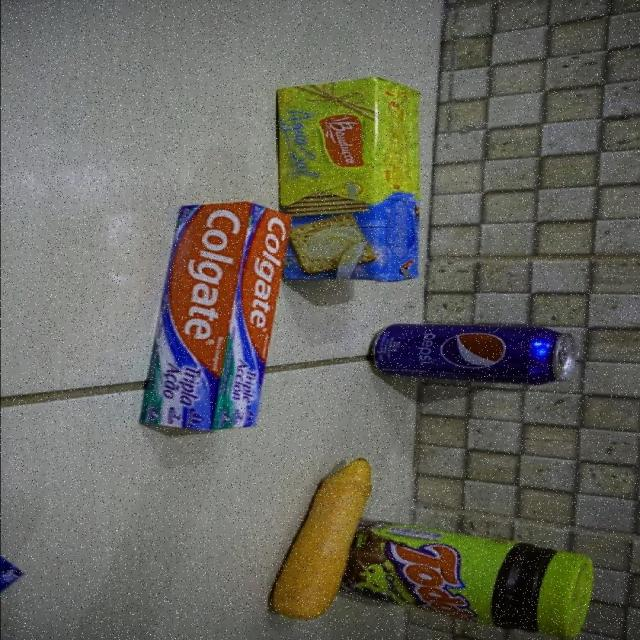Carrot: (262, 459, 372, 622)
ChocolatePowder: (376, 522, 590, 640)
Cracker: (288, 76, 421, 283)
SodaCan: (370, 321, 575, 387)
Toothpaste: (141, 199, 287, 433)
